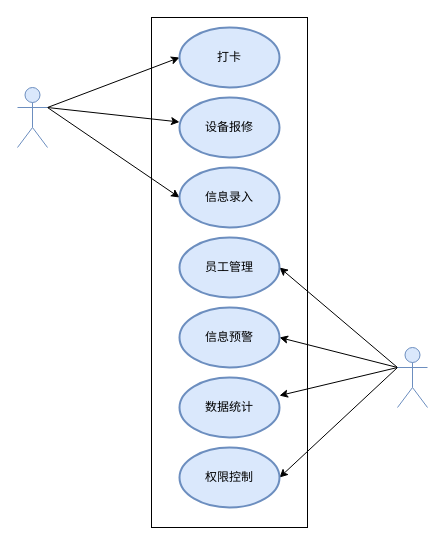
Image size: 448x545. Some labels were removed from this diagram. The centre of each missing label's shape, as x and y in pixels:
用户: (x=32, y=117)
管理员: (x=412, y=377)
